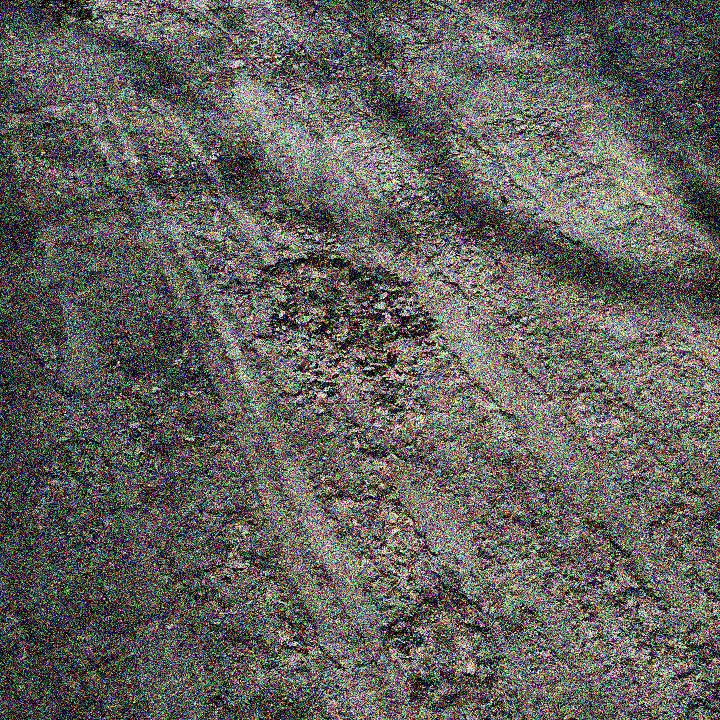pothole: (251, 249, 451, 401), (277, 205, 341, 247)
